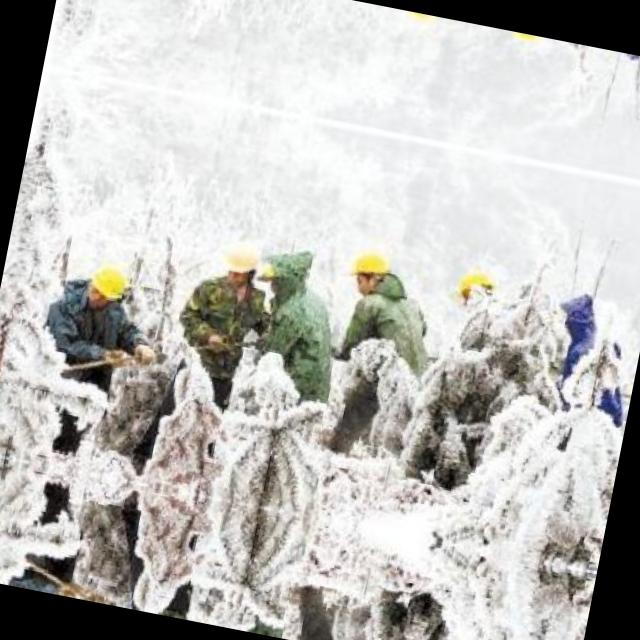helmet: (212, 234, 268, 290), (85, 252, 134, 312), (346, 241, 398, 297), (454, 262, 500, 308), (398, 10, 444, 30), (503, 30, 545, 50)
